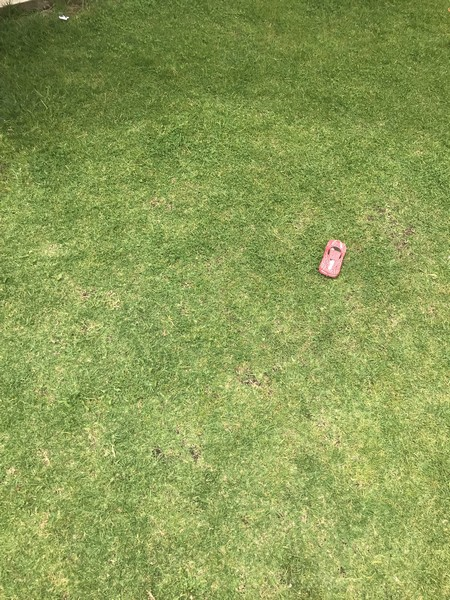RC: (319, 237, 348, 281)
